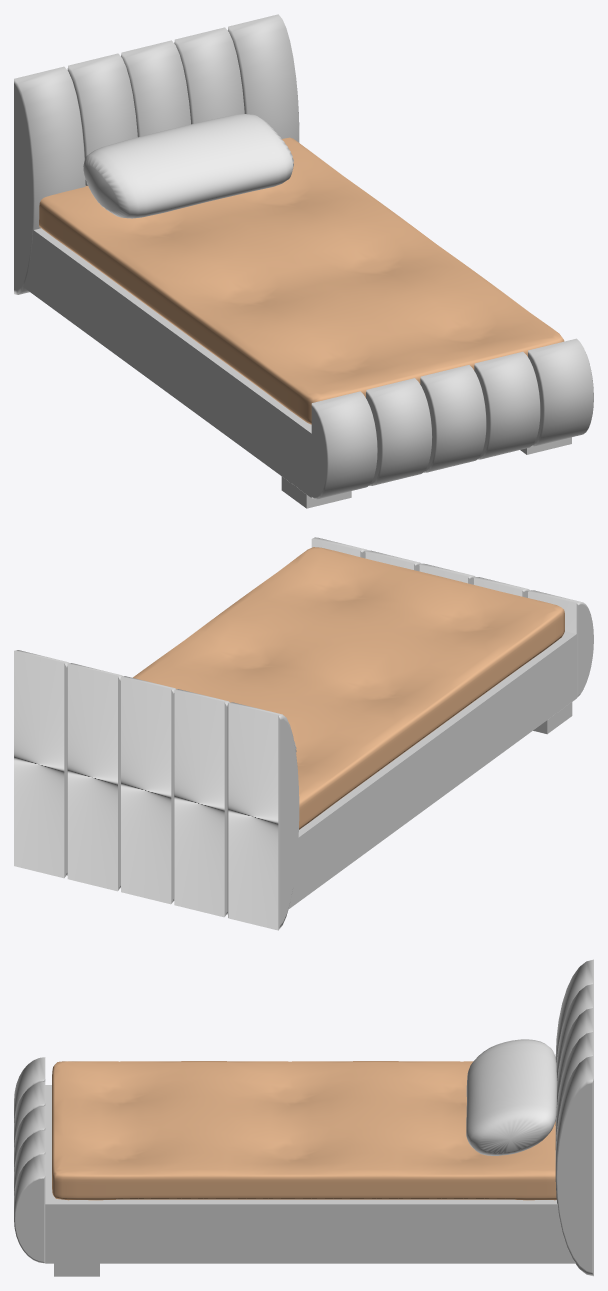
The model's file is bed_tier14.fbx.
3 views of the same model, one above another, from view 1: azimuth 30°, elevation 25°; view 2: azimuth 150°, elevation 25°; view 3: azimuth 270°, elevation 25° (orthographic). The views are drawn at different scales.
Visible parts, largest first — view 1: Cube, Cube.001, Cylinder.004; view 2: Cube, Cube.001; view 3: Cube.001, Cube, Cylinder.004.
Boxes of the visible parts, left/top/right/bottom form: Cube: left=14, top=14, right=593, bottom=508; Cube.001: left=39, top=137, right=564, bottom=424; Cylinder.004: left=83, top=114, right=293, bottom=218; Cube: left=14, top=537, right=593, bottom=930; Cube.001: left=133, top=547, right=564, bottom=829; Cube.001: left=52, top=1061, right=556, bottom=1200; Cube: left=14, top=959, right=593, bottom=1276; Cylinder.004: left=466, top=1039, right=556, bottom=1155.
Bounding box in the file's own units: 190 × 147 × 388.
